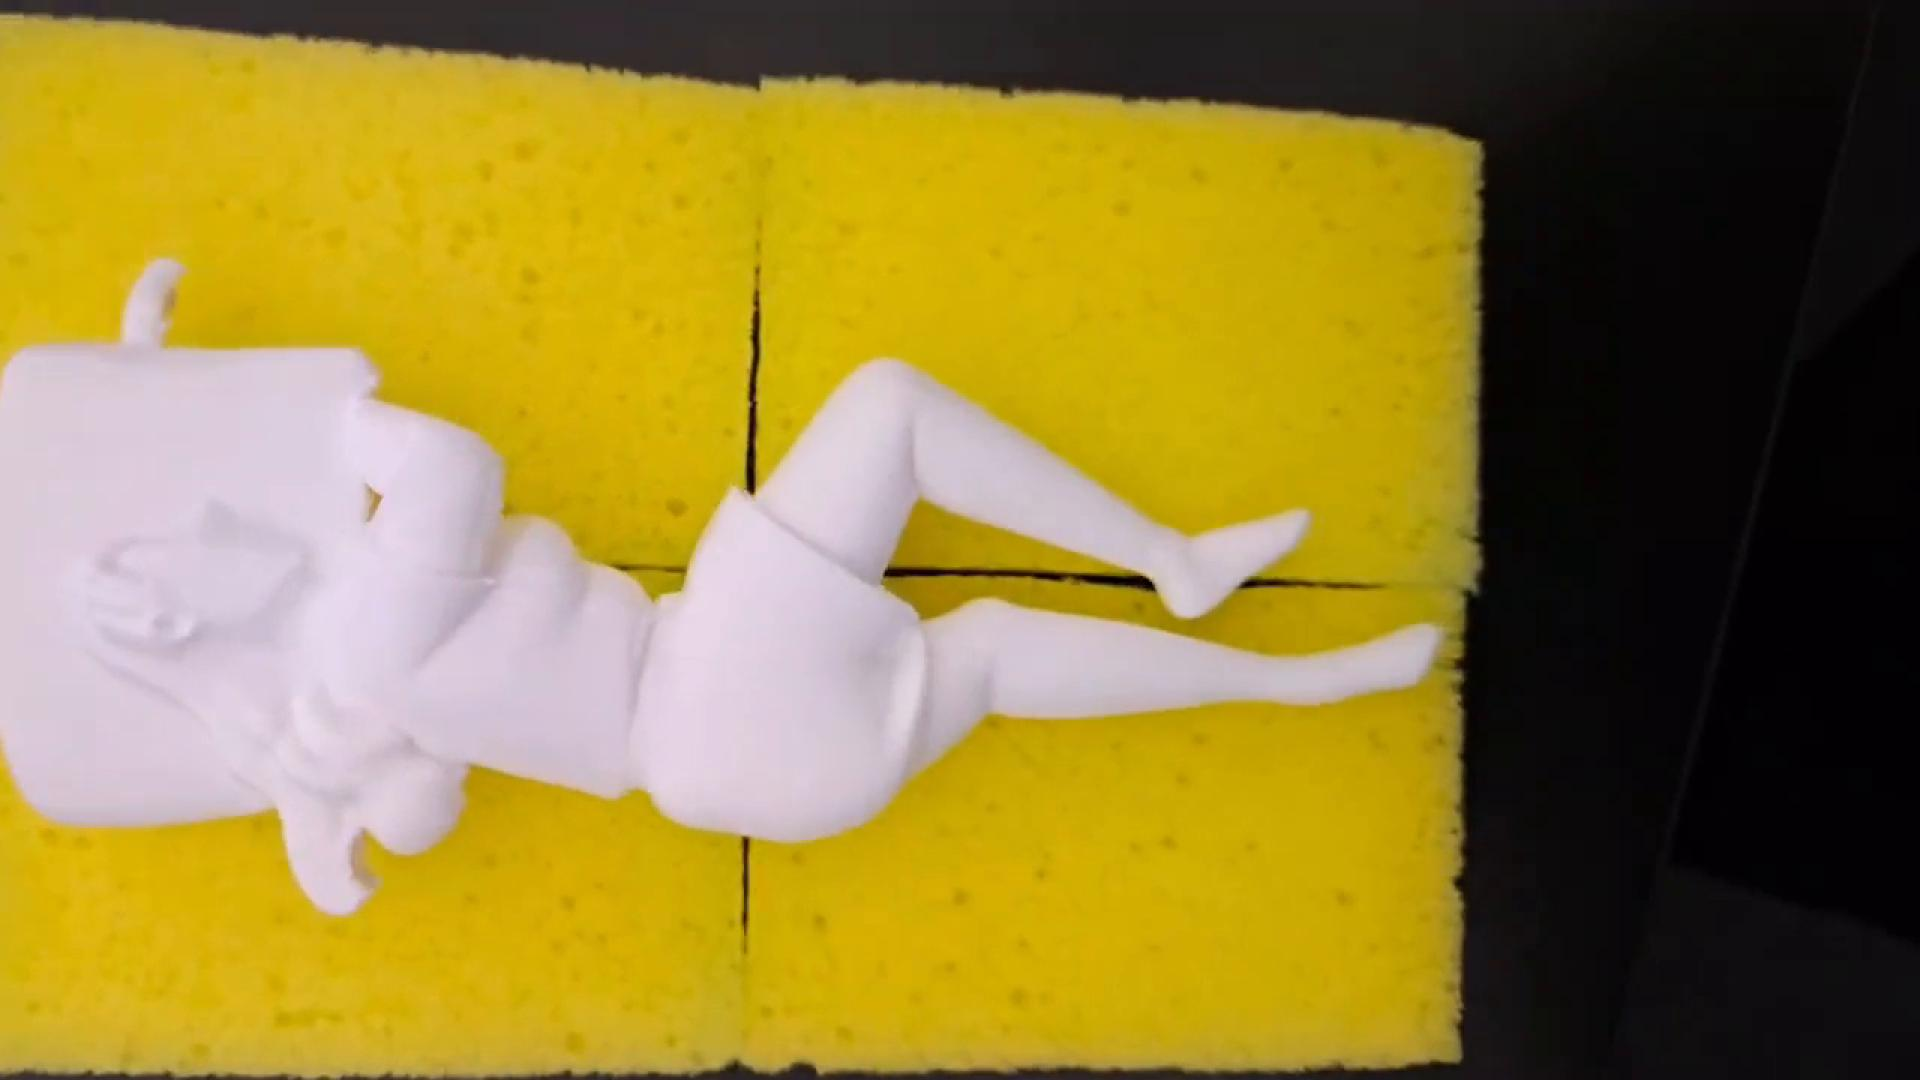Good-style: (0, 256, 1441, 918)
